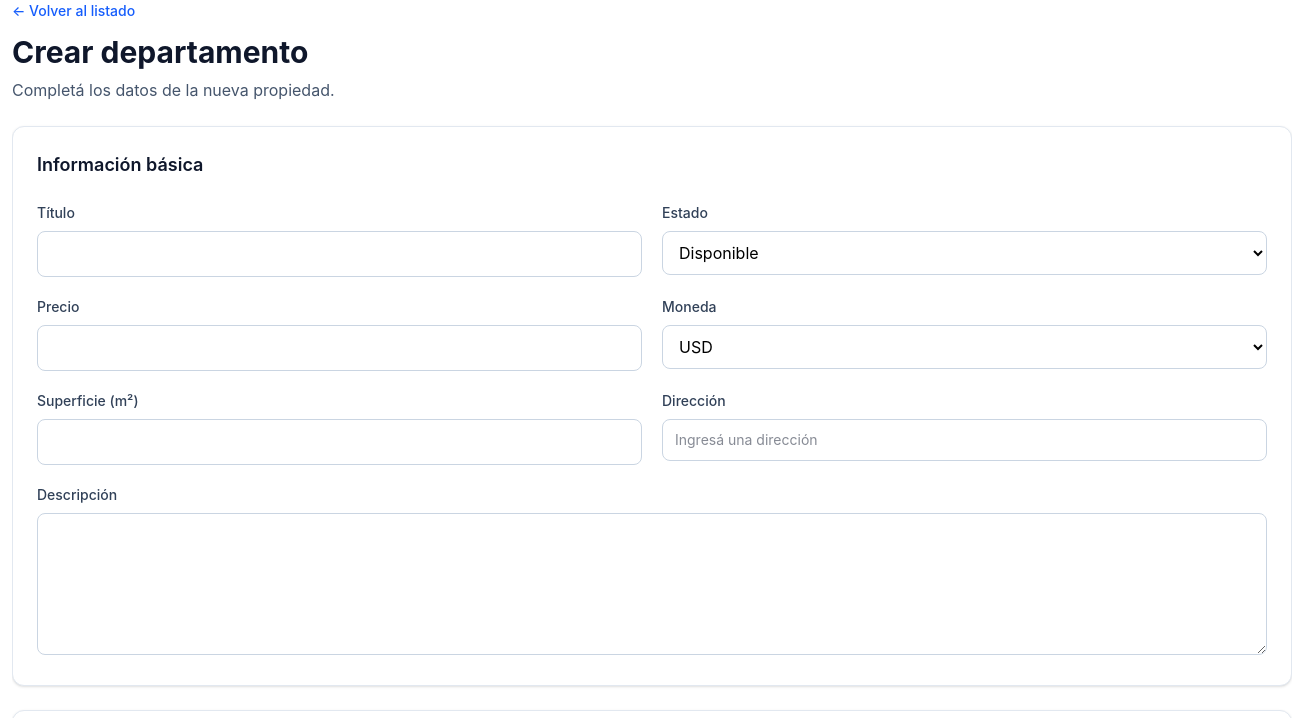
Test: DepartmentCreatePage › exige seleccionar una dirección
Type "Depto" into the field labelled "Título" at (340, 254), box [37,231,642,277]
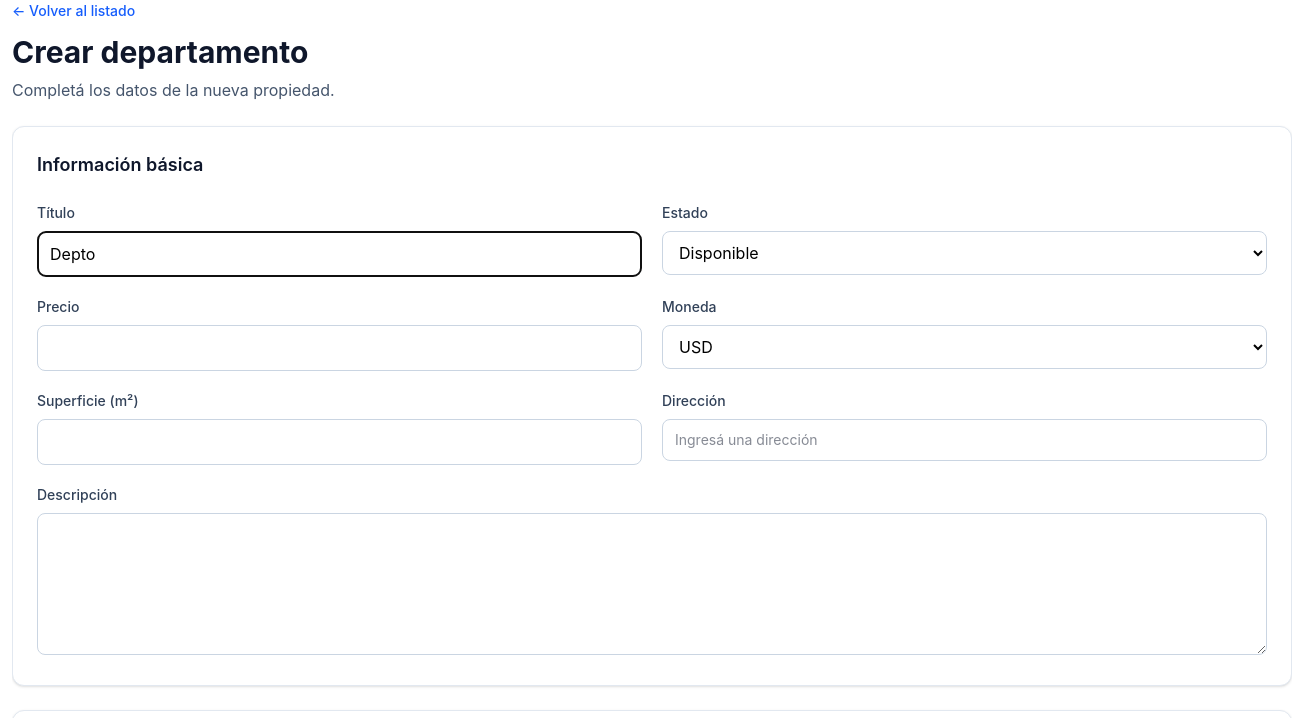
Type "1000" into the number field labelled "Precio" at (340, 348), box [37,325,642,371]
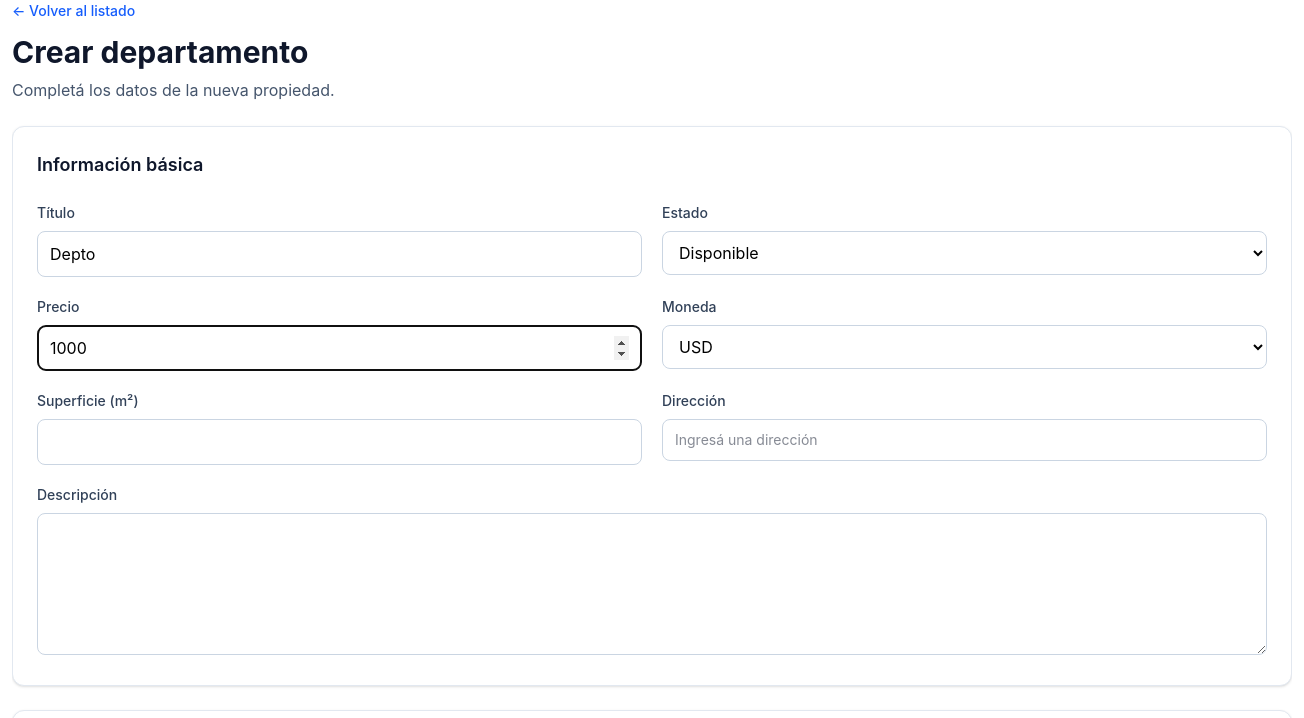
Type "50" into the number field labelled "Superficie (m²)" at (340, 442), box [37,419,642,465]
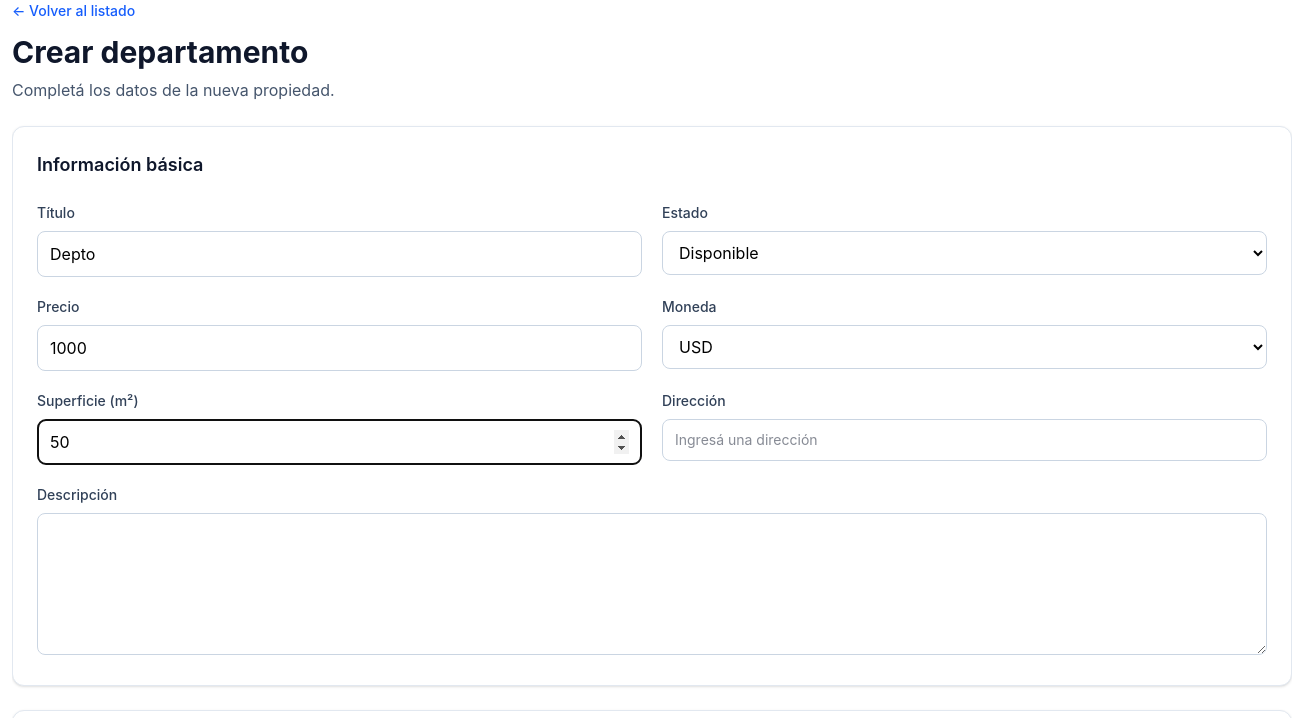
Type "Descripción" into the text box at (652, 584), box [37,513,1267,655]
(page scrolled)
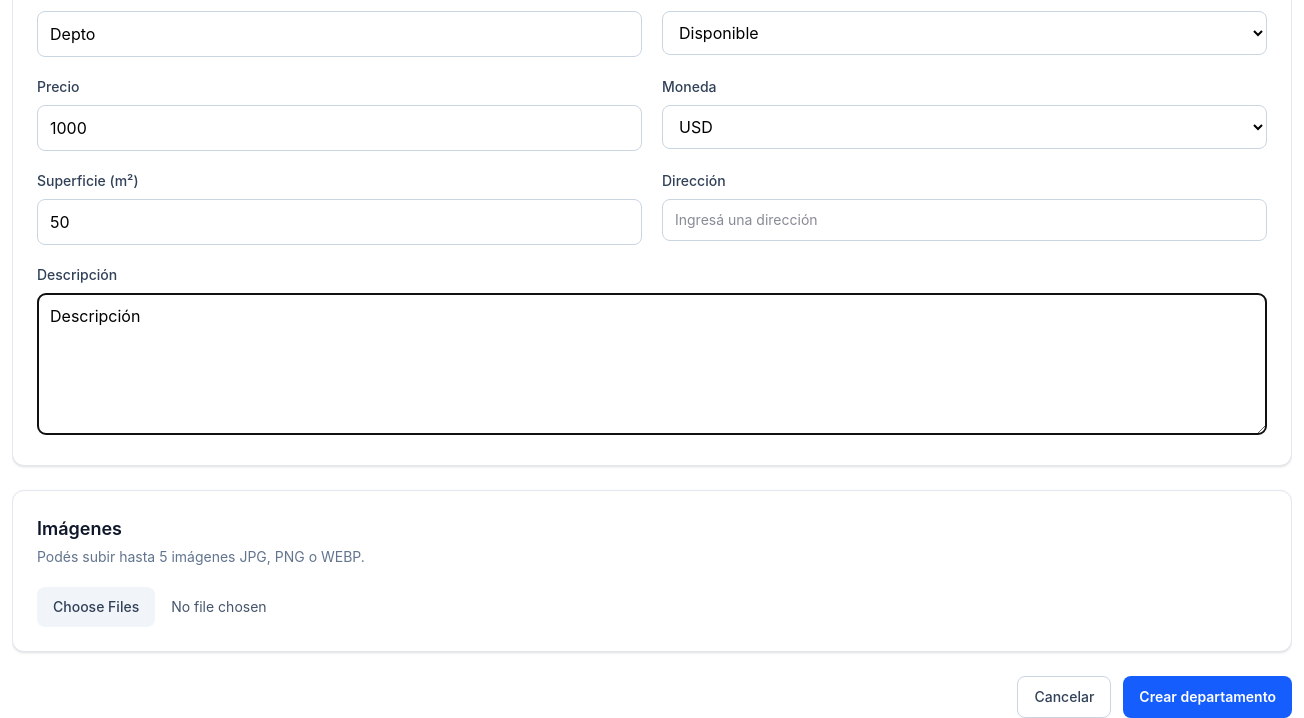
Click the button "Crear departamento" at (1208, 697), box [1123,676,1292,717]
(page scrolled)
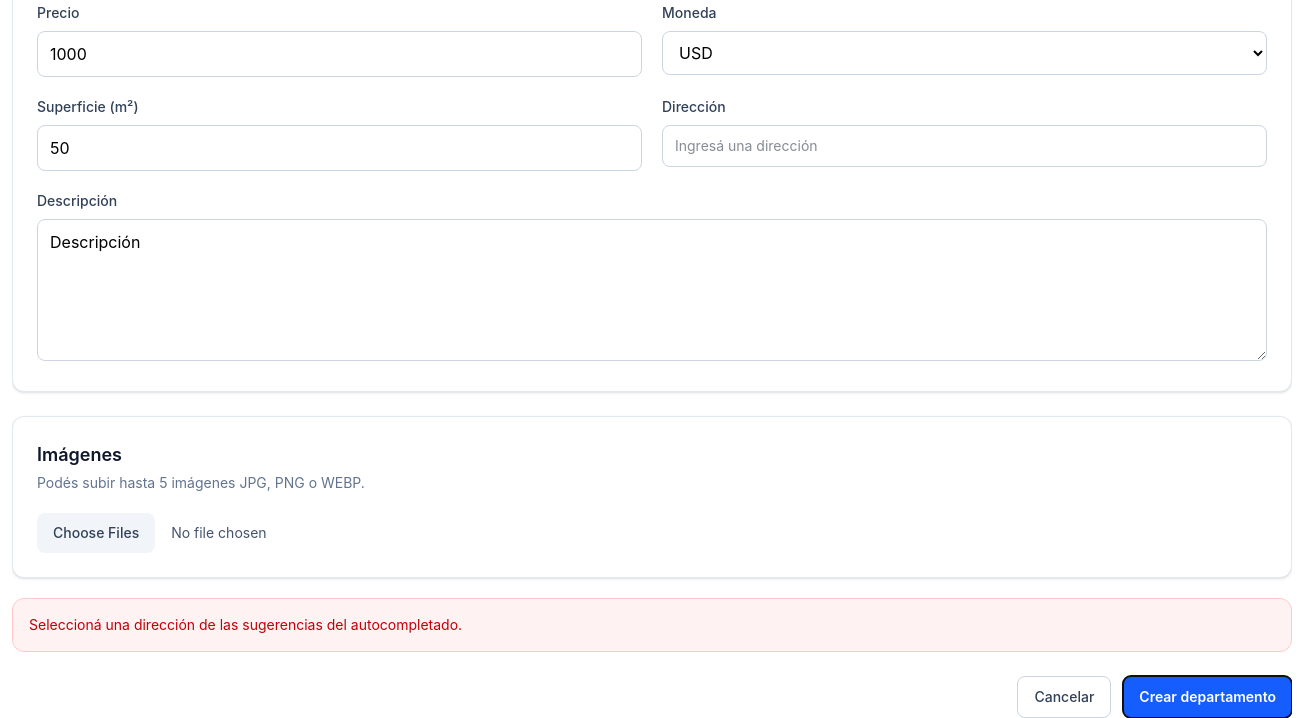
Now the text "Seleccioná una dirección" is shown, box [29,616,462,633]
